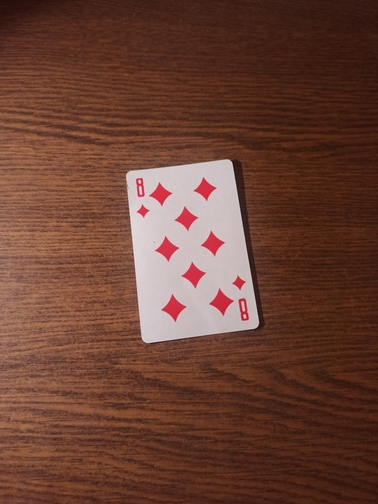eightdiamonds: (123, 160, 262, 346)
